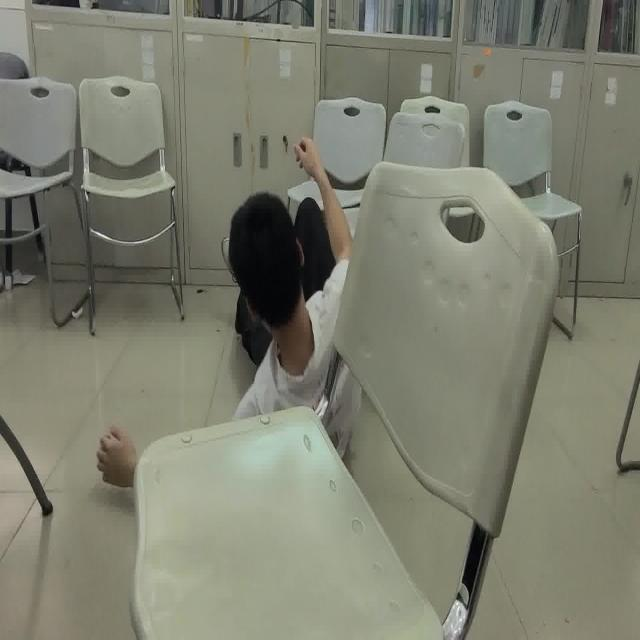fall: (93, 131, 365, 499)
